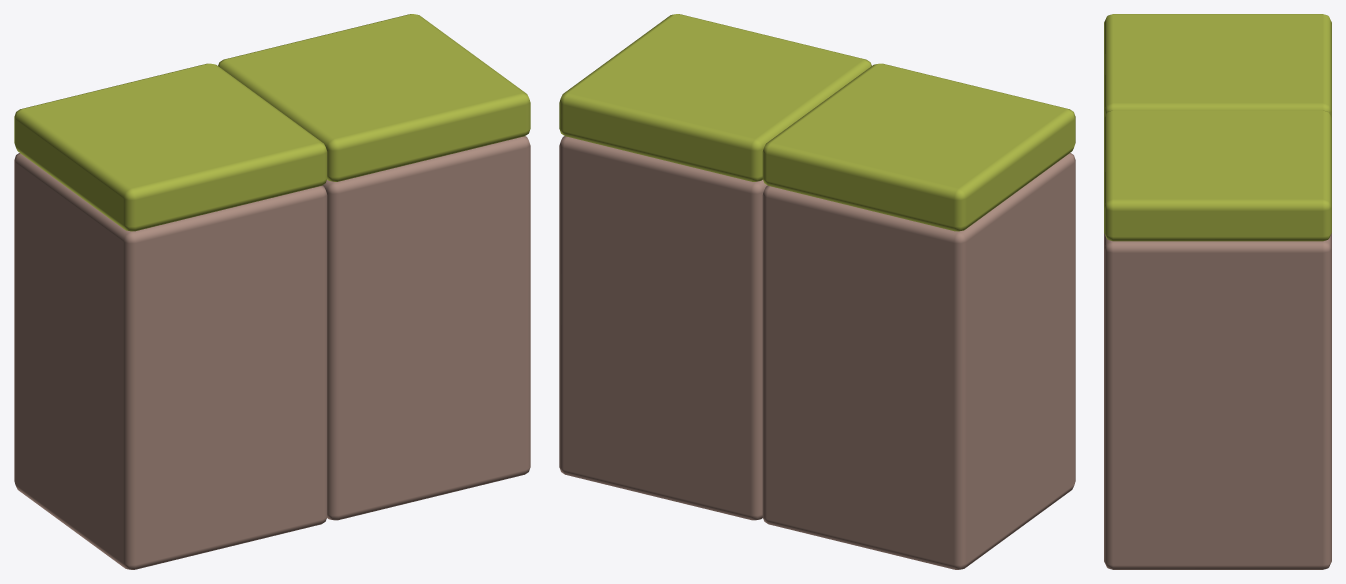
3 renders of one model, left to right at view 1: azimuth 30°, elevation 25°; view 2: azimuth 150°, elevation 25°; view 3: azimuth 270°, elevation 25°, orthographic. The views are drawn at different scales.
Visible parts, largest first — view 1: Cube.260; view 2: Cube.260; view 3: Cube.260.
Part boxes in pixels (x1=…): Cube.260: x1=14, y1=14, x2=530, y2=569; Cube.260: x1=559, y1=14, x2=1075, y2=569; Cube.260: x1=1104, y1=14, x2=1331, y2=569.
Size of the model in its own units: 2 by 1.8 by 1.
Materials: 1 (1 with a texture image).
